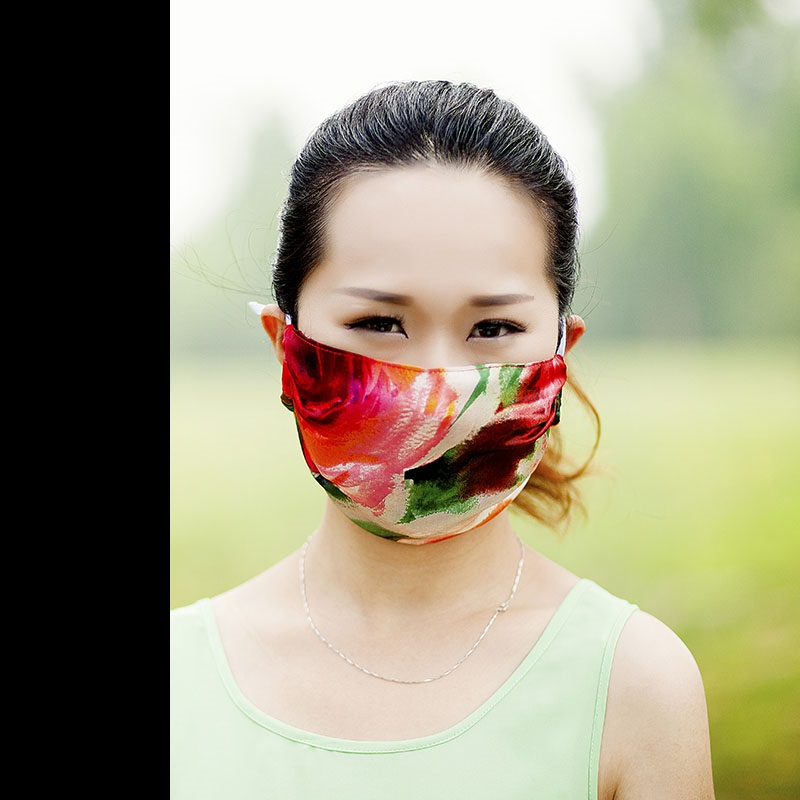face_mask: (302, 168, 556, 525)
